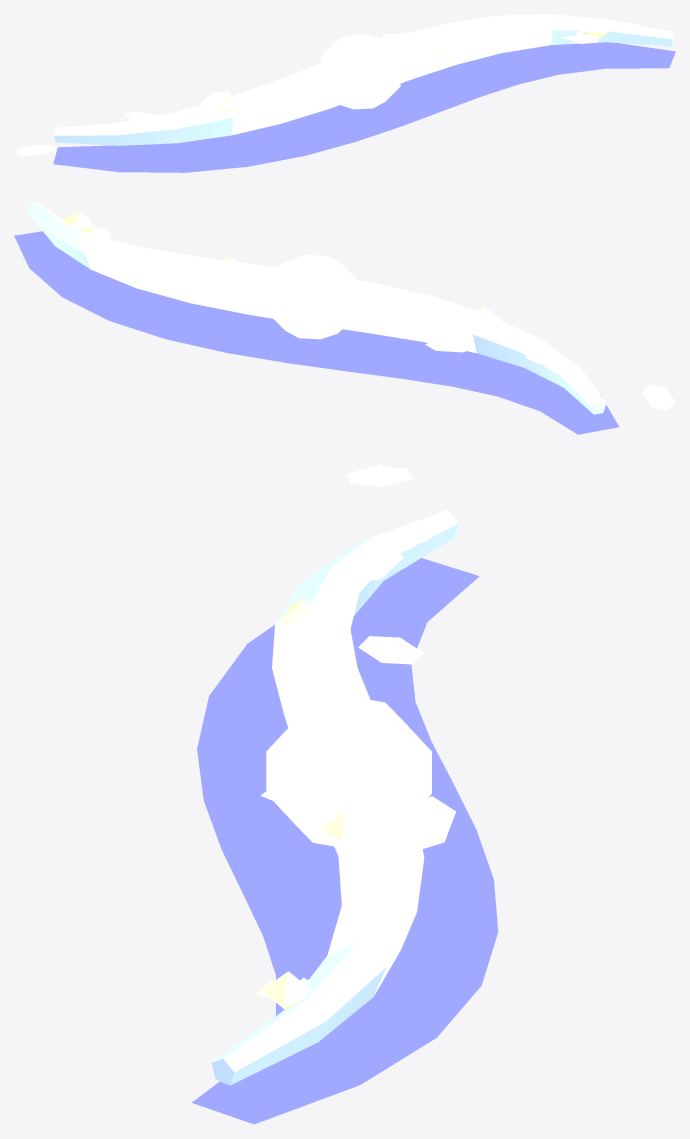
Rendered from filament_knot.glb.
The picture shows the model from 3 angles, top to bottom: view 1: azimuth 30°, elevation 25°; view 2: azimuth 150°, elevation 25°; view 3: azimuth 270°, elevation 25°; orthographic projection. The views are drawn at different scales.
Visible parts, largest first — view 1: body; view 2: body; view 3: body.
Part boxes in pixels (x1,y1,x2,y2): body: [14, 14, 675, 172]; body: [14, 201, 675, 434]; body: [192, 464, 498, 1124].
Bounding box in the file's own units: 231 × 24 × 49.22.
